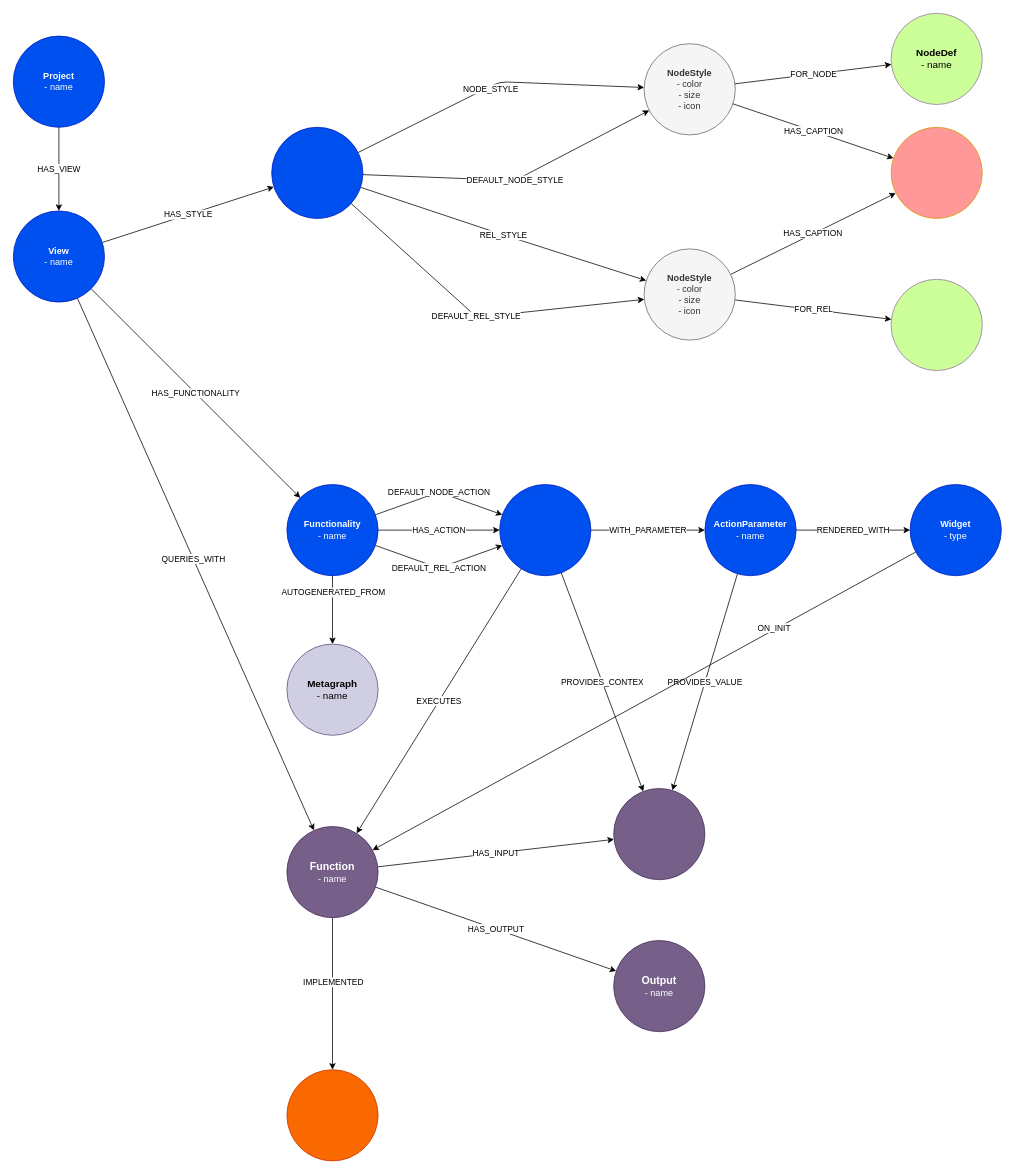
Image size: 1015x1174. Some labels were removed from this diagram. Each missing label, with the centre of its shape:
"Action - name - group - icon - updateStrategy" goes at (545,530).
"Input - name" goes at (659,834).
"NativeCall - cypher" goes at (332,1115).
"Property - name - type" goes at (936,172).
"RelDef - name" goes at (936,324).
"Style - name" goes at (317,172).
